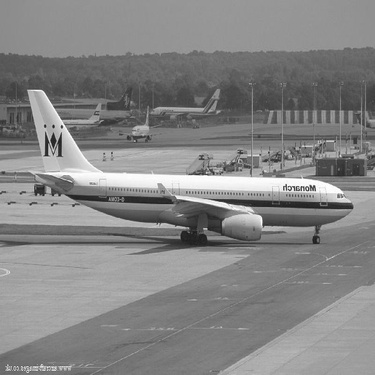airplane: (12, 97, 360, 251), (39, 80, 114, 134), (135, 80, 231, 118), (117, 104, 175, 141)
